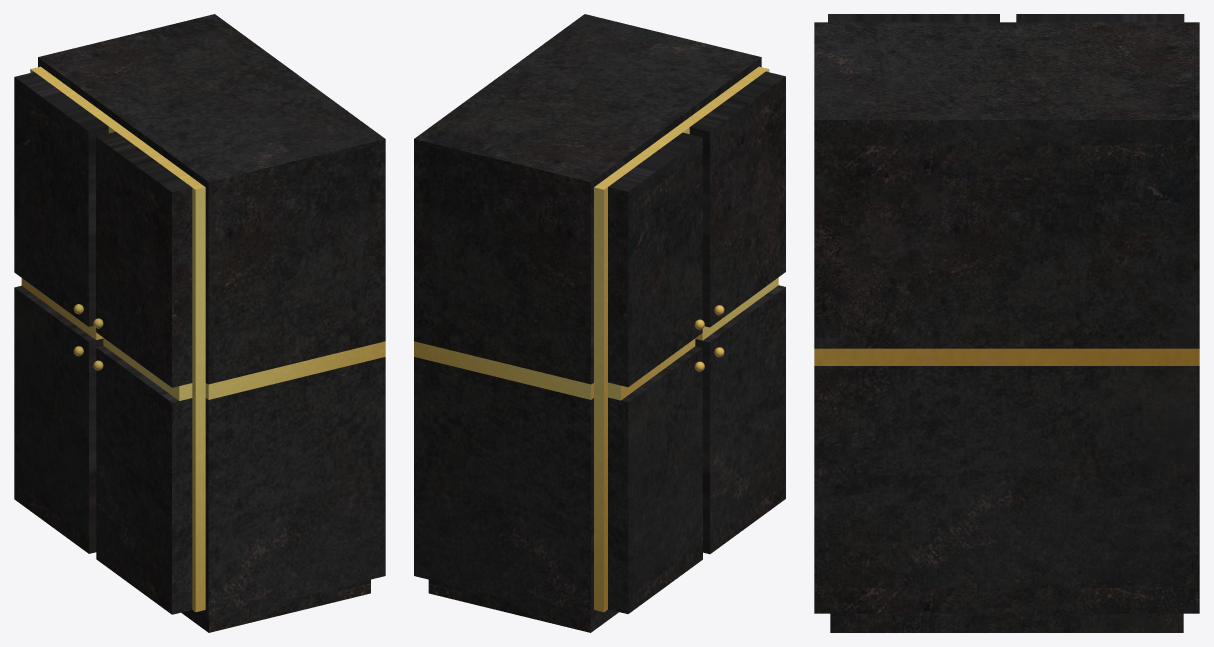
File: Cabinet.fbx
3 views of the same model, side by side, from view 1: azimuth 30°, elevation 25°; view 2: azimuth 150°, elevation 25°; view 3: azimuth 270°, elevation 25° (orthographic). The views are drawn at different scales.
Parts seen in each view (by area): view 1: pCube3; view 2: pCube3; view 3: pCube3.
Boxes of the visible parts, x1,y1,x2,y2 form: pCube3: (14, 14, 385, 632); pCube3: (414, 14, 785, 632); pCube3: (814, 14, 1199, 632).
Size of the model in its own units: 11.73 by 23.83 by 16.11.
Materials: 3 (3 with a texture image).
